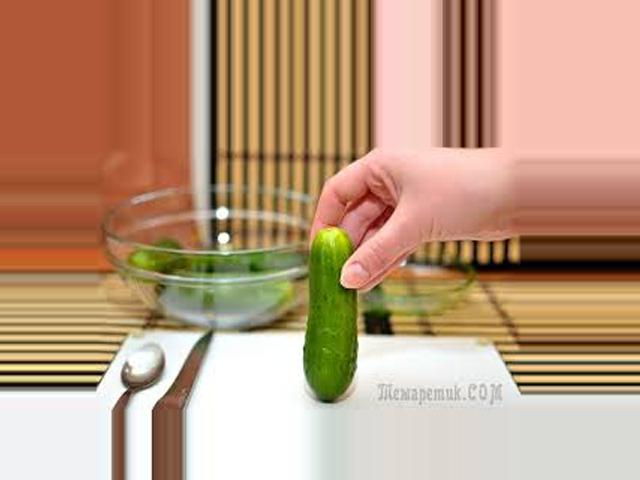cucumber: (303, 227, 357, 401)
